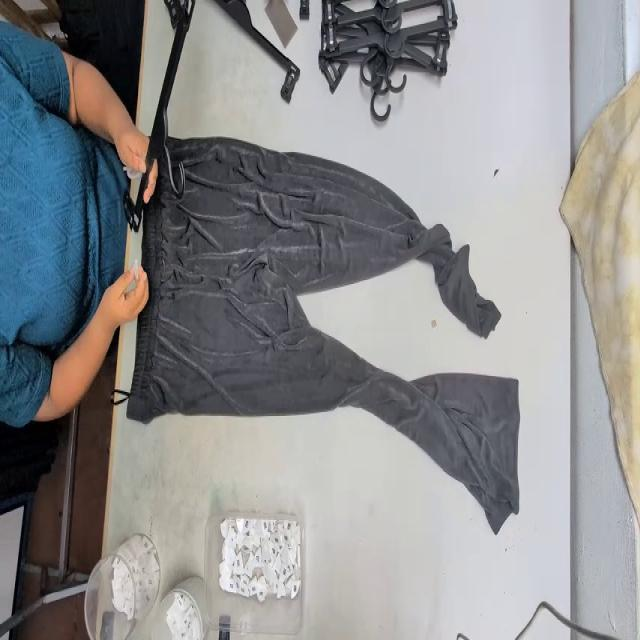new-garment: (127, 137, 518, 532)
